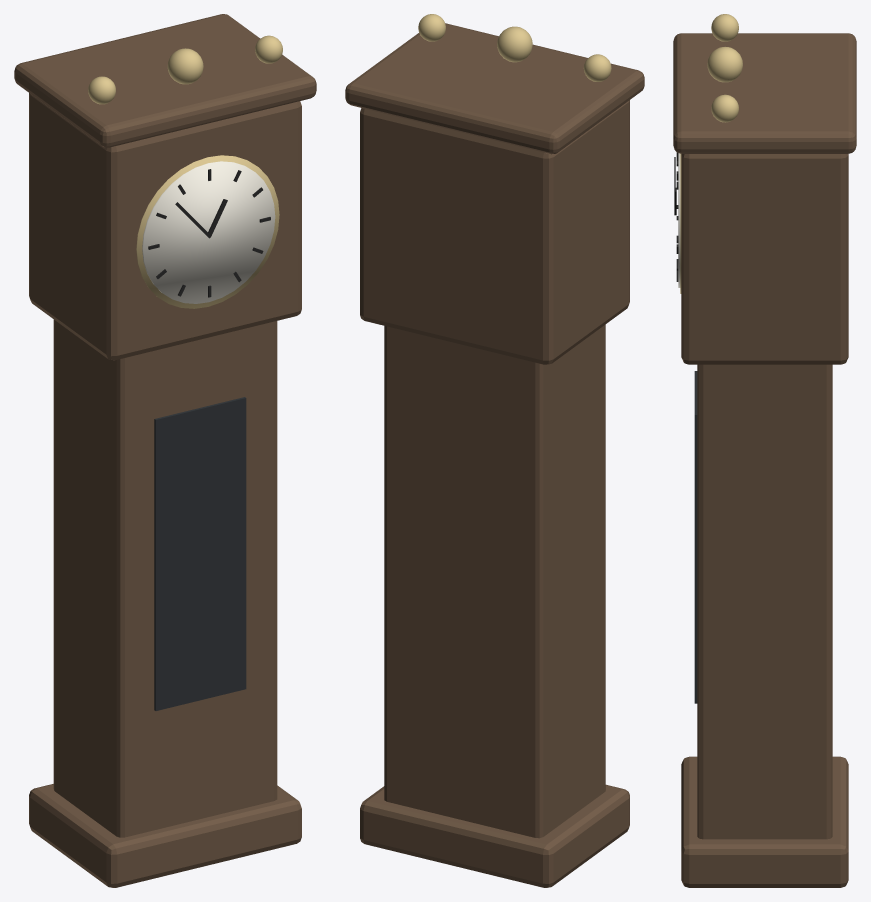
Rendered from clock.glb.
The picture shows the model from 3 angles, left to right: view 1: azimuth 30°, elevation 25°; view 2: azimuth 150°, elevation 25°; view 3: azimuth 270°, elevation 25°; orthographic projection.
Parts seen in each view (by area): view 1: case, hood, window, cap, base, face, ring, finial.002, finial, finial.001; view 2: case, hood, cap, base, finial.002, finial.001, finial; view 3: case, hood, cap, base, window, finial.002, finial.001, finial, face.
Boxes of the visible parts, x1,y1,x2,y2 form: case: (53,319,277,837); hood: (29,93,301,360); window: (154,397,246,710); cap: (14,14,316,147); base: (29,784,301,887); face: (142,161,275,303); ring: (136,155,279,308); finial.002: (167,48,203,84); finial: (88,76,115,104); finial.001: (255,35,282,63); case: (384,324,605,838); hood: (360,100,629,364); cap: (345,23,644,154); base: (360,784,629,887); finial.002: (497,26,532,62); finial.001: (418,14,445,41); finial: (583,54,611,81); case: (697,364,832,839); hood: (681,154,848,364); cap: (673,33,856,153); base: (681,756,848,887); window: (694,371,697,703); finial.002: (707,46,742,82); finial.001: (711,94,738,122); finial: (711,14,738,41); face: (678,153,680,287).
Bounding box in the file's own units: 0.62 × 2.21 × 0.46.
